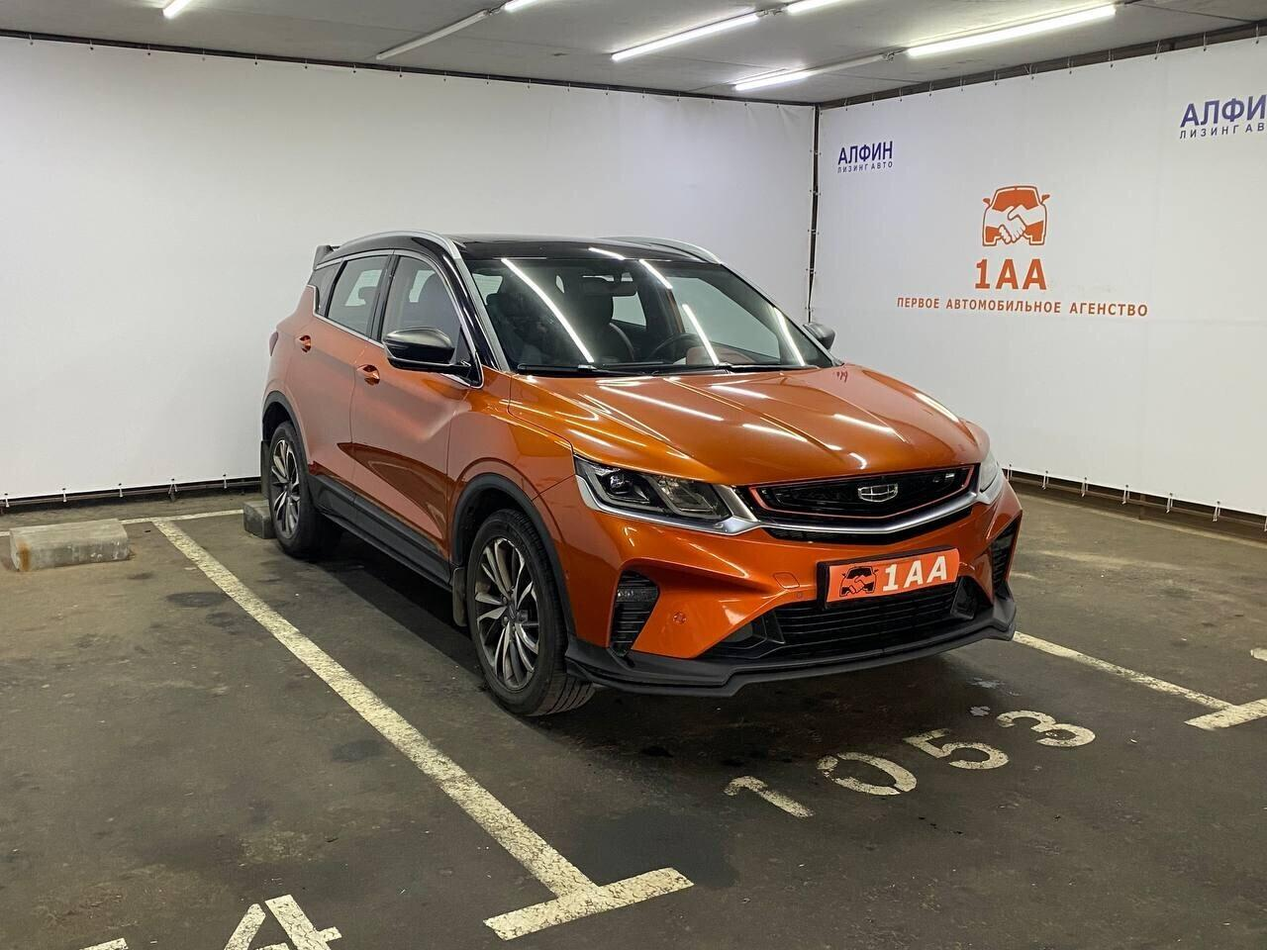Coolray_2019-2023: (254, 225, 1029, 725)
